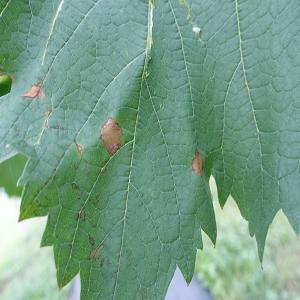Folha: (0, 0, 299, 298)
Fungo: (19, 66, 49, 100), (99, 116, 123, 156), (19, 81, 45, 101), (190, 148, 203, 178), (88, 242, 104, 261), (71, 182, 83, 200), (74, 138, 82, 155), (87, 232, 95, 246), (80, 206, 86, 222), (89, 248, 95, 260), (100, 168, 106, 176)
